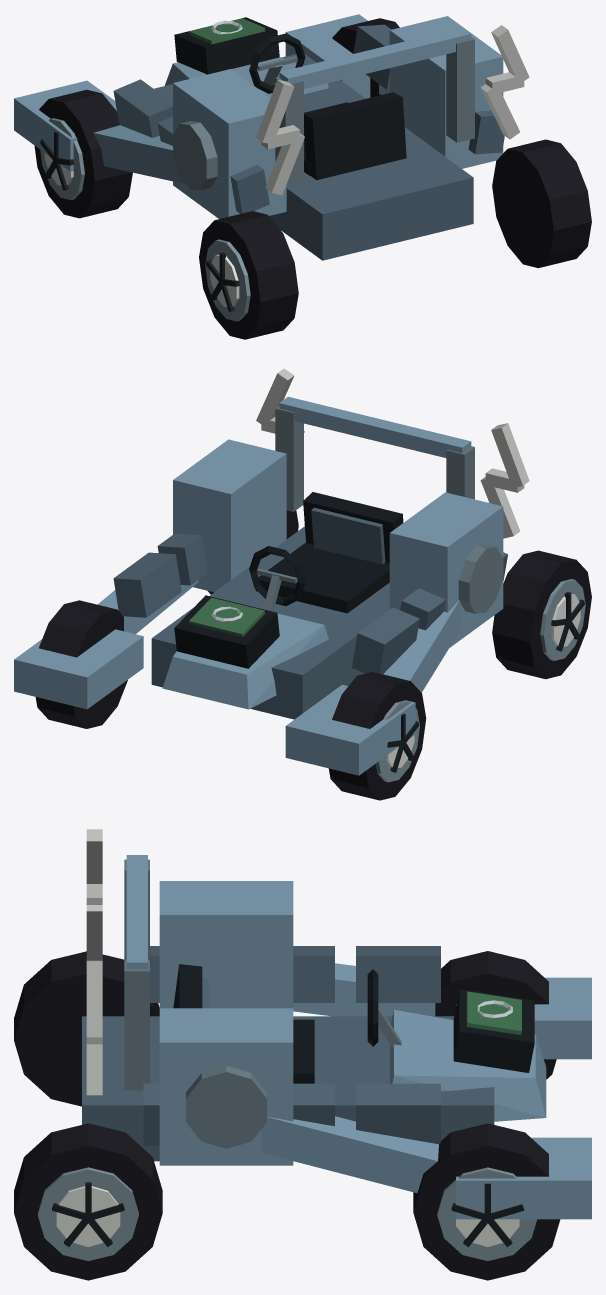
Rendered from kart.glb.
3 renders of one model, top to bottom at view 1: azimuth 30°, elevation 25°; view 2: azimuth 150°, elevation 25°; view 3: azimuth 270°, elevation 25°, orthographic. The views are drawn at different scales.
Visible parts, largest first — view 1: identity-mech-mech-articulated-limbs-and-open-harness, wheel-rear-left, wheel-rear-right, identity-mech-driver-cockpit, wheel-front-left, identity-mech-motif-armor, identity-mech-motif-electric, identity-mech-motif-scanner, wheel-front-right; view 2: identity-mech-mech-articulated-limbs-and-open-harness, identity-mech-driver-cockpit, wheel-rear-left, identity-mech-motif-armor, wheel-front-left, identity-mech-motif-scanner, wheel-front-right, identity-mech-motif-electric; view 3: identity-mech-mech-articulated-limbs-and-open-harness, wheel-rear-right, identity-mech-motif-armor, wheel-front-right, wheel-rear-left, identity-mech-motif-scanner, wheel-front-left, identity-mech-motif-electric, identity-mech-driver-cockpit.
Boxes of the visible parts, x1=… form: identity-mech-mech-articulated-limbs-and-open-harness: x1=14, y1=14, x2=503, y2=260; wheel-rear-left: x1=199, y1=211, x2=298, y2=339; wheel-rear-right: x1=492, y1=139, x2=591, y2=268; identity-mech-driver-cockpit: x1=249, y1=33, x2=406, y2=180; wheel-front-left: x1=34, y1=89, x2=132, y2=218; identity-mech-motif-armor: x1=113, y1=24, x2=504, y2=213; identity-mech-motif-electric: x1=256, y1=25, x2=529, y2=194; identity-mech-motif-scanner: x1=174, y1=17, x2=279, y2=74; wheel-front-right: x1=332, y1=18, x2=399, y2=97; identity-mech-mech-articulated-limbs-and-open-harness: x1=14, y1=396, x2=503, y2=775; identity-mech-driver-cockpit: x1=249, y1=492, x2=403, y2=613; wheel-rear-left: x1=492, y1=550, x2=591, y2=679; identity-mech-motif-armor: x1=113, y1=533, x2=507, y2=674; wheel-front-left: x1=328, y1=672, x2=426, y2=800; identity-mech-motif-scanner: x1=174, y1=595, x2=279, y2=668; wheel-front-right: x1=35, y1=600, x2=127, y2=728; identity-mech-motif-electric: x1=256, y1=368, x2=529, y2=538; identity-mech-mech-articulated-limbs-and-open-harness: x1=82, y1=855, x2=591, y2=1219; wheel-rear-right: x1=14, y1=1123, x2=162, y2=1280; identity-mech-motif-armor: x1=143, y1=946, x2=440, y2=1145; wheel-front-right: x1=413, y1=1123, x2=560, y2=1280; wheel-rear-left: x1=14, y1=951, x2=159, y2=1106; identity-mech-motif-scanner: x1=453, y1=989, x2=534, y2=1072; wheel-front-left: x1=435, y1=951, x2=556, y2=1079; identity-mech-motif-electric: x1=86, y1=829, x2=102, y2=1095; identity-mech-driver-cockpit: x1=173, y1=964, x2=401, y2=1083.
Size of the model in its own units: 2.29 by 1.49 by 2.72.
